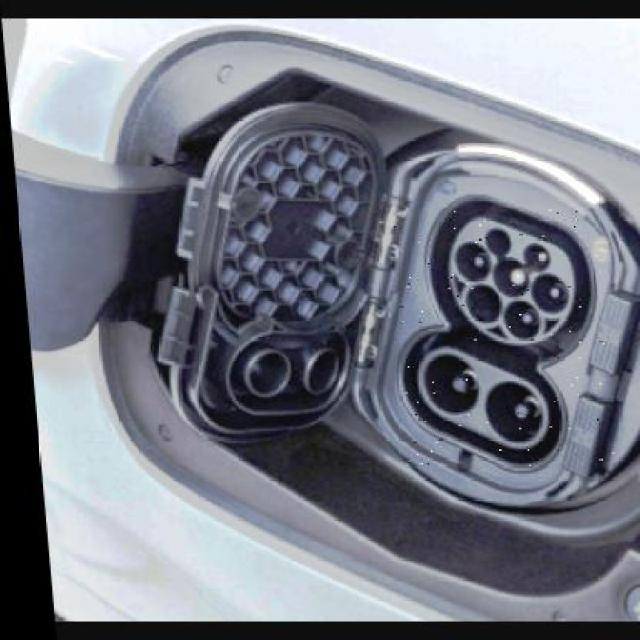CCS2: (367, 177, 625, 486)
